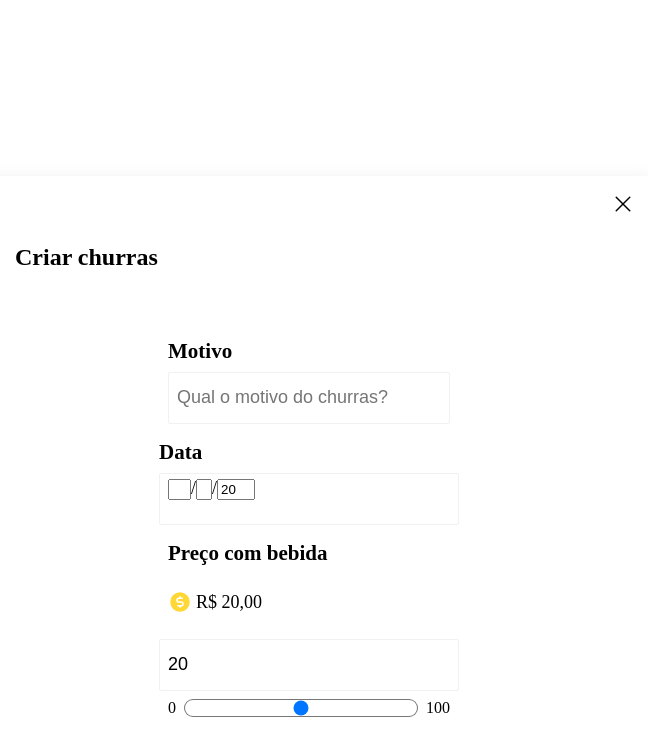
Test: CreateBarbecue › should show an error when the user tries to add a date less than today
Replace the text in the 3rd number field with placeholder "----" with "2021". click: (236, 489)
box: [217,479,255,500]
(page scrolled)
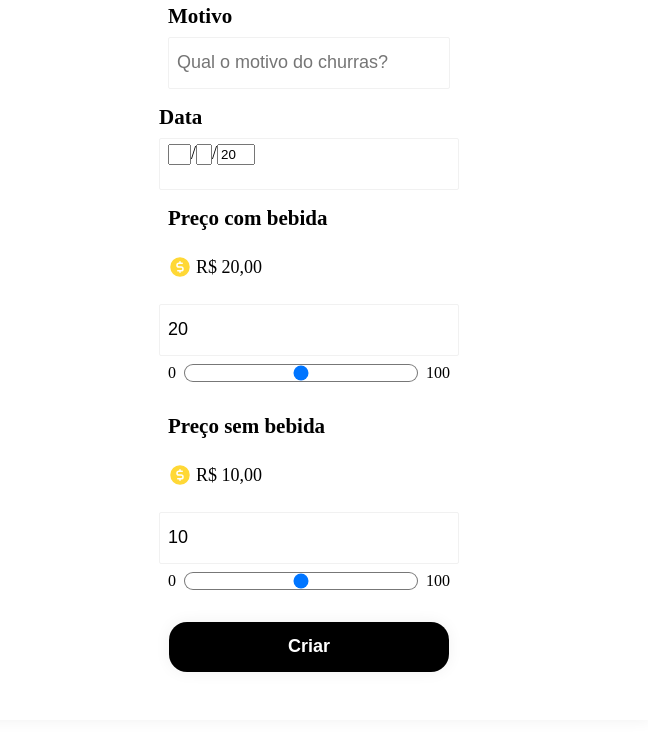
Click the button "Criar". click: (309, 647)
box: [169,622,449,672]
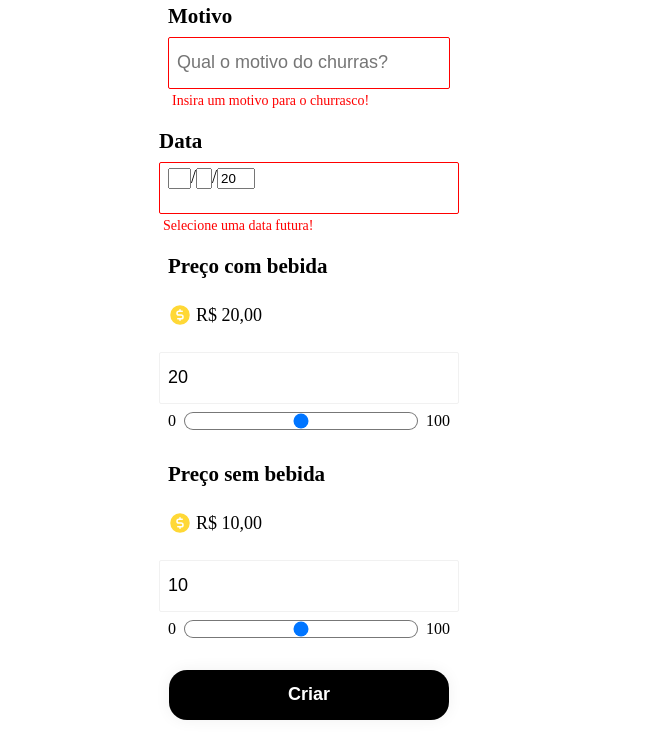
Expected: the text "Selecione uma data futura!" is shown, [163,218,313,233]
